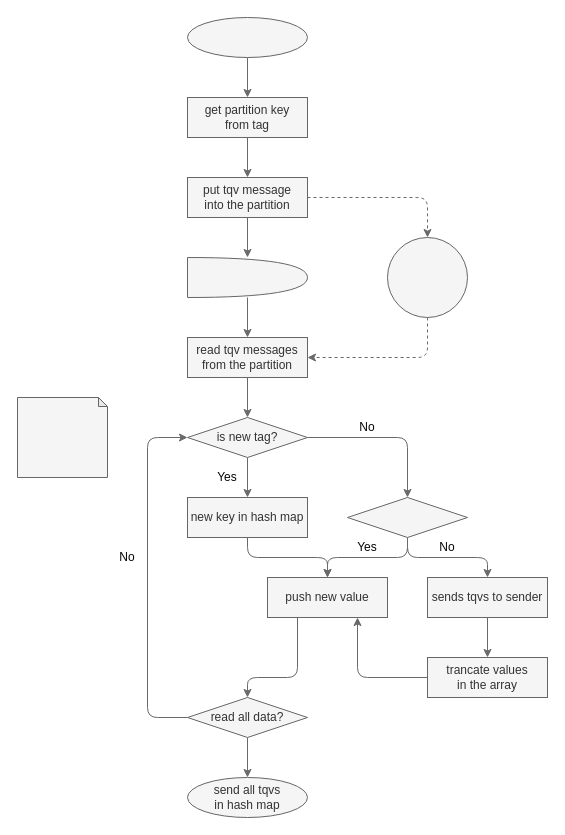
Image size: 565x835. Some labels were removed from this diagram. The shapes that lost their labels are listed below. From the top down, each one's centre as x and y in pixels, then its label:
At (x=247, y=37): "new TQV message".
At (x=247, y=277): "wait 30 secs ~ 1 min".
At (x=427, y=277): "partitions".
At (x=62, y=437): "hash map = { tag1: value[], tag2: value[], tag3: value[] }".
At (x=407, y=517): "array length < 10".
